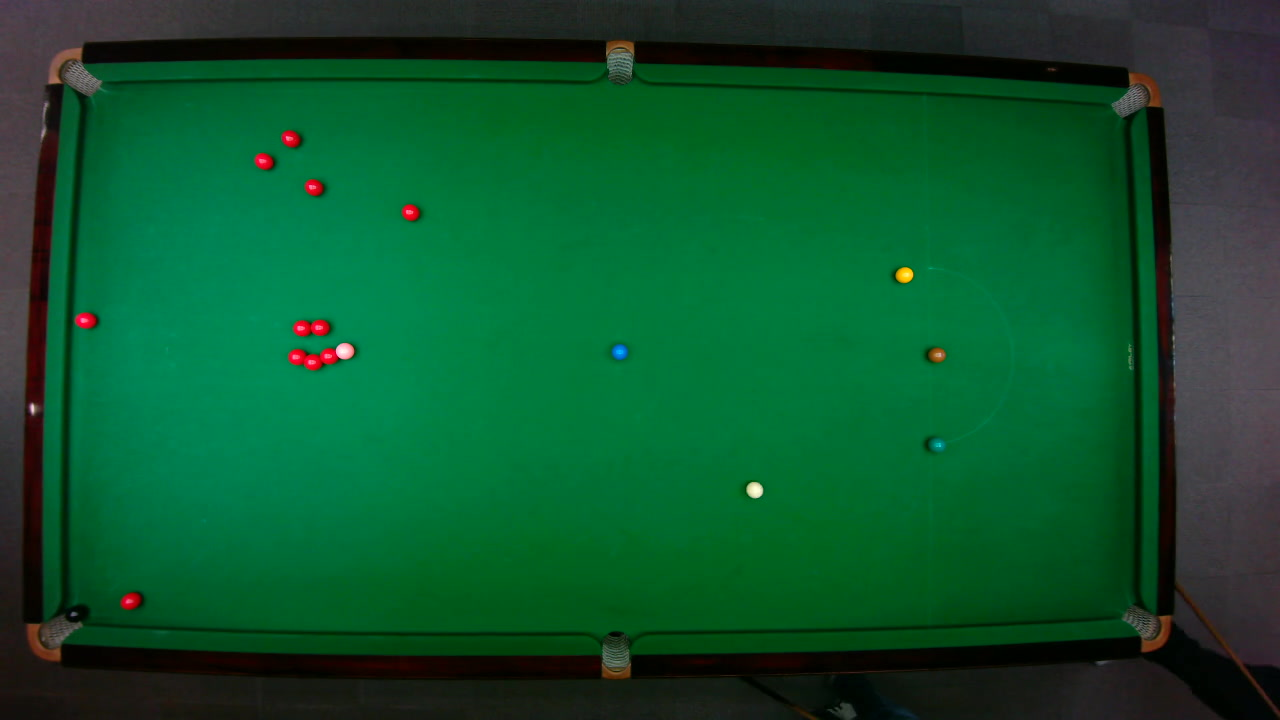bag: (25, 609, 82, 661), (46, 46, 102, 97), (1119, 603, 1171, 651), (1108, 71, 1161, 118), (600, 629, 630, 680), (605, 38, 633, 85)
black: (64, 604, 85, 622)
blue: (610, 342, 628, 360)
brown: (926, 346, 946, 362)
cue: (1175, 583, 1278, 717)
green: (926, 435, 946, 452)
pink: (333, 341, 355, 360)
red: (118, 590, 142, 610), (73, 310, 97, 328), (302, 177, 324, 196), (280, 128, 301, 147), (253, 151, 274, 170), (301, 352, 323, 370), (308, 317, 330, 335), (286, 347, 306, 366), (400, 202, 420, 221), (290, 318, 311, 336), (318, 346, 337, 365)
white: (744, 480, 764, 499)
yellow: (893, 265, 914, 283)
zone: (927, 266, 1013, 445)
